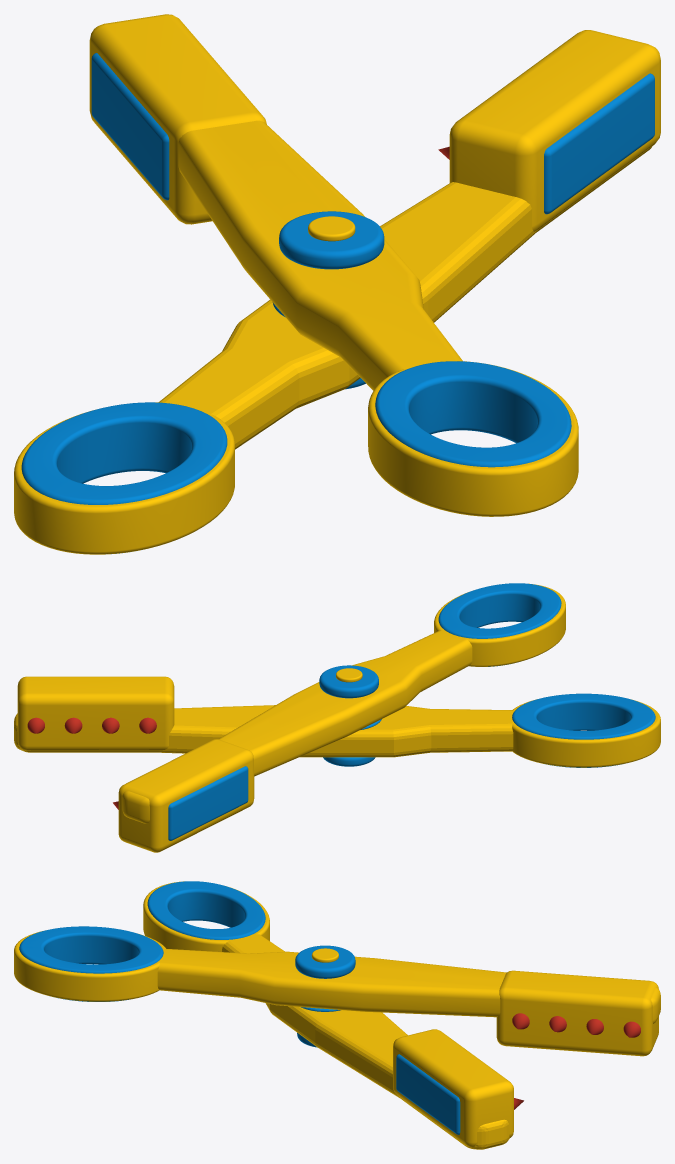
File: alligator.glb
The picture shows the model from 3 angles, top to bottom: view 1: azimuth 30°, elevation 25°; view 2: azimuth 150°, elevation 25°; view 3: azimuth 270°, elevation 25°; orthographic projection. The views are drawn at different scales.
Parts seen in each view (by area): view 1: alligator-part-010, alligator-part-001, alligator-part-004, alligator-part-003, alligator-part-012, alligator-part-013, alligator-part-002, alligator-part-011, alligator-part-005, alligator-part-014, alligator-part-022, alligator-part-023; view 2: alligator-part-010, alligator-part-001, alligator-part-004, alligator-part-013, alligator-part-003, alligator-part-012, alligator-part-002, alligator-part-014, alligator-part-011, alligator-part-022, alligator-part-021; view 3: alligator-part-010, alligator-part-013, alligator-part-001, alligator-part-004, alligator-part-012, alligator-part-003, alligator-part-011, alligator-part-005, alligator-part-002, alligator-part-022.
Boxes of the visible parts, bbox=[...] form: alligator-part-010: bbox=[178, 120, 462, 390]; alligator-part-001: bbox=[158, 147, 651, 449]; alligator-part-004: bbox=[449, 30, 660, 231]; alligator-part-003: bbox=[21, 402, 227, 554]; alligator-part-012: bbox=[375, 361, 571, 467]; alligator-part-013: bbox=[89, 14, 266, 224]; alligator-part-002: bbox=[14, 402, 234, 554]; alligator-part-011: bbox=[368, 361, 578, 516]; alligator-part-005: bbox=[544, 73, 654, 214]; alligator-part-014: bbox=[91, 53, 169, 200]; alligator-part-022: bbox=[279, 211, 384, 269]; alligator-part-023: bbox=[308, 216, 355, 241]; alligator-part-010: bbox=[122, 630, 472, 823]; alligator-part-001: bbox=[14, 705, 514, 757]; alligator-part-004: bbox=[17, 676, 174, 750]; alligator-part-013: bbox=[118, 739, 254, 852]; alligator-part-003: bbox=[512, 693, 655, 767]; alligator-part-012: bbox=[438, 583, 561, 666]; alligator-part-002: bbox=[510, 699, 660, 767]; alligator-part-014: bbox=[168, 766, 248, 840]; alligator-part-011: bbox=[434, 583, 565, 666]; alligator-part-022: bbox=[319, 665, 378, 698]; alligator-part-021: bbox=[323, 757, 375, 766]; alligator-part-010: bbox=[157, 948, 660, 1023]; alligator-part-013: bbox=[496, 970, 658, 1056]; alligator-part-001: bbox=[222, 933, 509, 1149]; alligator-part-004: bbox=[393, 1029, 513, 1147]; alligator-part-012: bbox=[19, 926, 163, 1001]; alligator-part-003: bbox=[147, 881, 265, 939]; alligator-part-011: bbox=[14, 931, 165, 1001]; alligator-part-005: bbox=[396, 1054, 460, 1134]; alligator-part-002: bbox=[143, 881, 269, 951]; alligator-part-022: bbox=[295, 945, 355, 978].
Bounding box in the file's own units: 2.69 × 0.4283 × 3.
